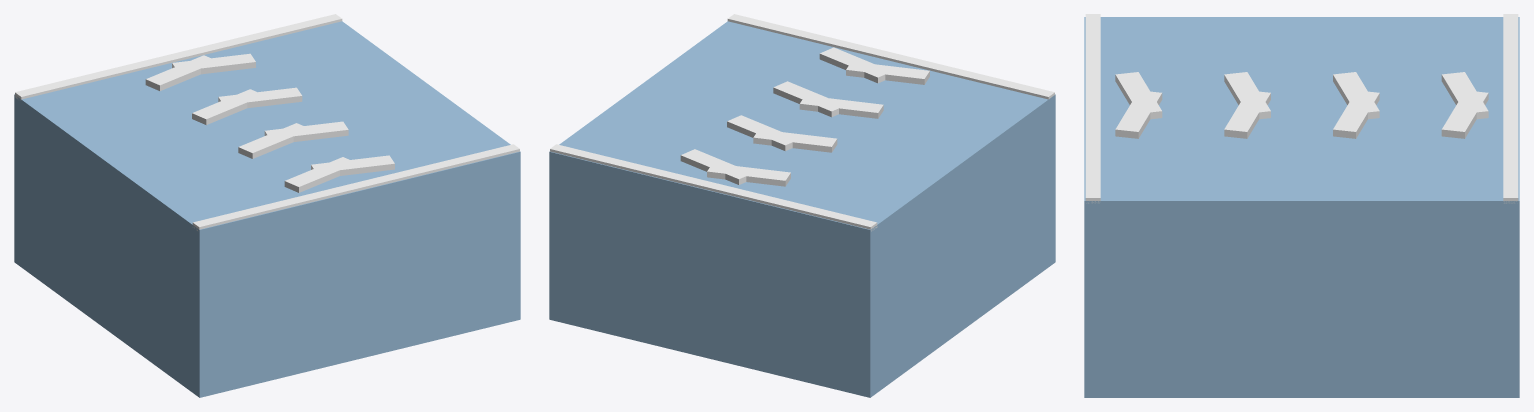
Rendered from OnOffConveyorB_TopHalf.glb.
3 views of the same model, side by side, from view 1: azimuth 30°, elevation 25°; view 2: azimuth 150°, elevation 25°; view 3: azimuth 270°, elevation 25° (orthographic). The views are drawn at different scales.
Visible parts, largest first — view 1: OnOffConveyorB_TopHalf_body, rail_0.017, rail_-0.017, chev_1_-1.017, chev_2_-1.017, chev_3_1.017, chev_0_-1.017, chev_0_1.017, chev_2_1.017, chev_1_1.017, chev_3_-1.017; view 2: OnOffConveyorB_TopHalf_body, rail_0.017, rail_-0.017, chev_2_1.017, chev_3_1.017, chev_1_1.017, chev_0_1.017, chev_0_-1.017, chev_1_-1.017, chev_3_-1.017, chev_2_-1.017; view 3: OnOffConveyorB_TopHalf_body, rail_0.017, rail_-0.017, chev_0_1.017, chev_3_1.017, chev_1_1.017, chev_2_1.017, chev_3_-1.017, chev_0_-1.017, chev_1_-1.017, chev_2_-1.017.
Part boxes in pixels (x1,y1,x2,y2): OnOffConveyorB_TopHalf_body: (14,21,520,397); rail_0.017: (15,14,342,100); rail_-0.017: (192,144,519,230); chev_1_-1.017: (264,121,348,141); chev_2_-1.017: (218,87,302,108); chev_3_1.017: (145,55,217,90); chev_0_-1.017: (311,155,394,175); chev_0_1.017: (284,157,356,192); chev_2_1.017: (192,89,256,124); chev_1_1.017: (238,123,303,158); chev_3_-1.017: (172,53,255,74); OnOffConveyorB_TopHalf_body: (549,21,1055,397); rail_0.017: (550,144,877,231); rail_-0.017: (727,14,1054,99); chev_2_1.017: (753,129,837,152); chev_3_1.017: (707,163,790,186); chev_1_1.017: (799,95,883,118); chev_0_1.017: (846,63,929,84); chev_0_-1.017: (819,47,891,83); chev_1_-1.017: (773,81,845,117); chev_3_-1.017: (680,149,751,184); chev_2_-1.017: (727,115,792,151); OnOffConveyorB_TopHalf_body: (1084,17,1519,397); rail_0.017: (1503,14,1518,203); rail_-0.017: (1085,14,1100,203); chev_0_1.017: (1115,72,1162,119); chev_3_1.017: (1441,72,1488,119); chev_1_1.017: (1224,72,1270,119); chev_2_1.017: (1333,72,1379,119); chev_3_-1.017: (1441,91,1488,138); chev_0_-1.017: (1115,91,1162,138); chev_1_-1.017: (1224,91,1270,138); chev_2_-1.017: (1333,91,1379,138).
Size of the model in its own units: 1 by 0.5175 by 1.
